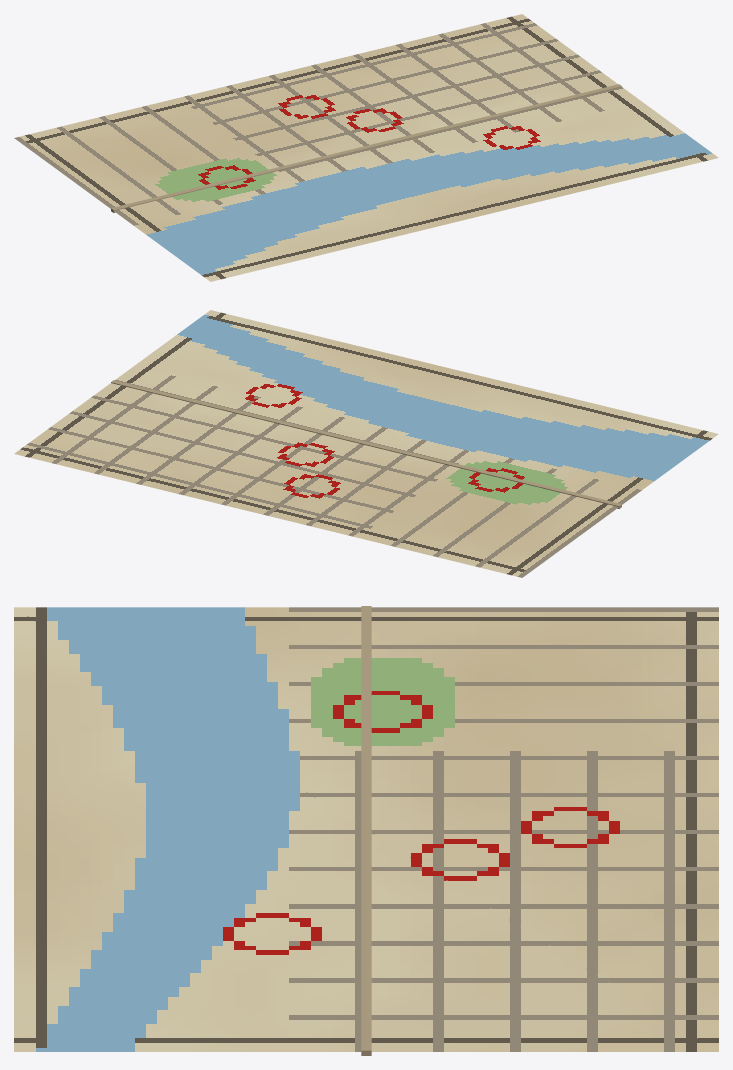
File: atlas_page.glb
The picture shows the model from 3 angles, top to bottom: view 1: azimuth 30°, elevation 25°; view 2: azimuth 150°, elevation 25°; view 3: azimuth 270°, elevation 25°; orthographic projection. The views are drawn at different scales.
Parts seen in each view (by area): view 1: atlas_page; view 2: atlas_page; view 3: atlas_page.
Part boxes in pixels (x1,y1,x2,y2): atlas_page: (14,14,718,281); atlas_page: (14,310,718,577); atlas_page: (14,606,718,1055).
Size of the model in its own units: 0.2 by 0.0011 by 0.134.
2 materials, 1 textured.
